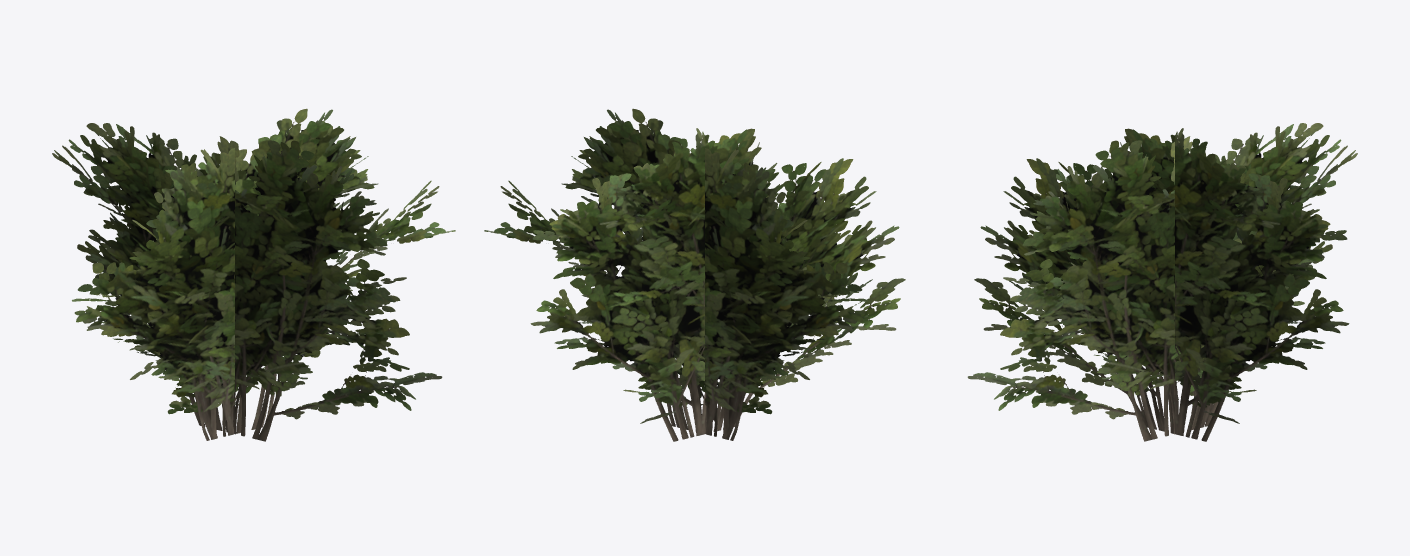
The model's file is liska_1_daleko.glb.
The picture shows the model from 3 angles, left to right: view 1: azimuth 30°, elevation 25°; view 2: azimuth 150°, elevation 25°; view 3: azimuth 270°, elevation 25°; orthographic projection.
Parts seen in each view (by area): view 1: liska_1_daleko; view 2: liska_1_daleko; view 3: liska_1_daleko.
Part boxes in pixels (<box>): liska_1_daleko: <box>52,108,455,441</box>; liska_1_daleko: <box>484,108,905,441</box>; liska_1_daleko: <box>967,123,1357,441</box>.
Size of the model in its own units: 5.07 by 3.43 by 4.39.
Materials: 3 (3 with a texture image).
